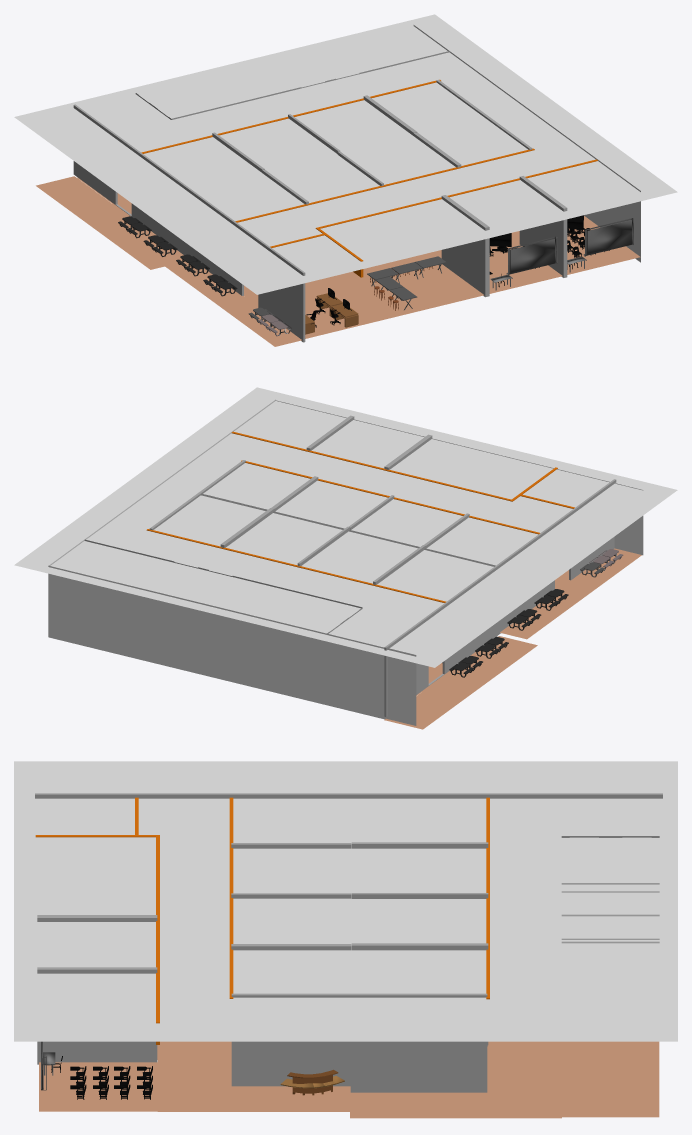
Rendered from ModelFinal.glb.
3 views of the same model, one above another, from view 1: azimuth 30°, elevation 25°; view 2: azimuth 150°, elevation 25°; view 3: azimuth 270°, elevation 25° (orthographic). The views are drawn at different scales.
Parts seen in each view (by area): view 1: Techo, Cube.007, Plane.007, Plane.019, Plane.016, Cube.006, Plane.054, Cube.005, Plane.062, Plane.003, Pizarron_1, Pizarron (+5 smaller); view 2: Techo, Plane.061, Cube.007, Plane.019, Plane.016, Plane.018, Plane.017, Cube.004, Cube.003, Cube; view 3: Techo, Cube.009, Plane.080, Plane.055, Plane.054, Plane, Cube.007, Plane.056, Cube.005, Plane.057, Cube.012, Cube.003 (+9 smaller).
Part boxes in pixels (x1,y1,x2,y2): Techo: (14, 14, 677, 294); Cube.007: (73, 104, 305, 342); Plane.007: (316, 264, 483, 325); Plane.019: (36, 176, 182, 269); Plane.016: (159, 257, 301, 346); Cube.006: (441, 195, 489, 297); Plane.054: (244, 216, 596, 305); Cube.005: (519, 176, 567, 277); Plane.062: (413, 25, 640, 262); Plane.003: (489, 244, 562, 293); Pizarron_1: (506, 236, 557, 275); Pizarron: (583, 218, 633, 256); Techo: (14, 387, 677, 667); Plane.061: (48, 565, 384, 719); Cube.007: (384, 479, 616, 716); Plane.019: (384, 636, 537, 729); Plane.016: (500, 548, 641, 639); Plane.018: (385, 648, 416, 725); Plane.017: (614, 483, 643, 555); Cube.004: (146, 529, 446, 602); Cube.003: (241, 460, 539, 534); Cube: (231, 431, 513, 501); Techo: (14, 761, 677, 1041); Cube.009: (231, 993, 487, 1092); Plane.080: (561, 1041, 659, 1117); Plane.055: (487, 1041, 561, 1118); Plane.054: (157, 1041, 231, 1111); Plane: (39, 1062, 157, 1111); Cube.007: (35, 793, 662, 798); Plane.056: (350, 1092, 487, 1118); Cube.005: (37, 967, 157, 1064); Plane.057: (232, 1086, 350, 1111); Cube.012: (351, 943, 488, 1046); Cube.003: (229, 797, 233, 998).
Bounding box in the file's own units: 30.3 × 5.43 × 30.3.
Materials: 21 (1 with a texture image).
